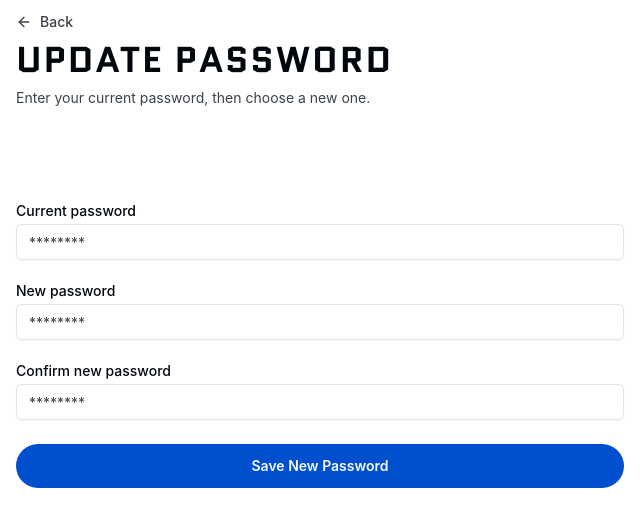
Scenario: UpdatePasswordPage › submits the password update form successfully
The width and height of the screenshot is (641, 505).
Type "currentpass123" into the password field labelled "Current password" at (320,242), box 16,224 -> 624,260
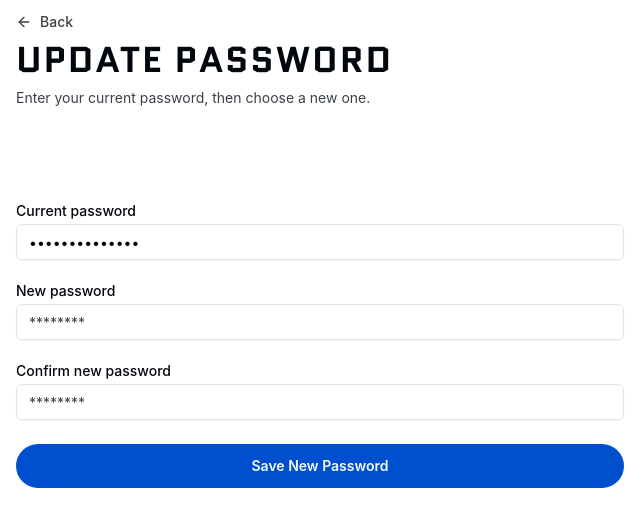
Type "newpass123" into the password field labelled "New password" at (320,322), box 16,304 -> 624,340
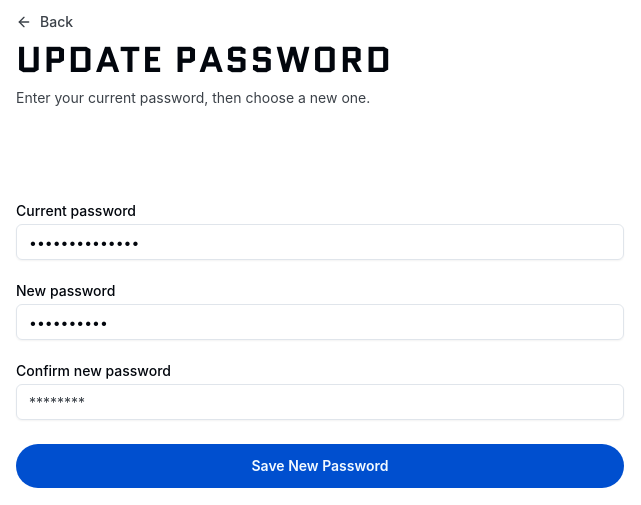
Type "newpass123" into the password field labelled "Confirm new password" at (320,402), box 16,384 -> 624,420
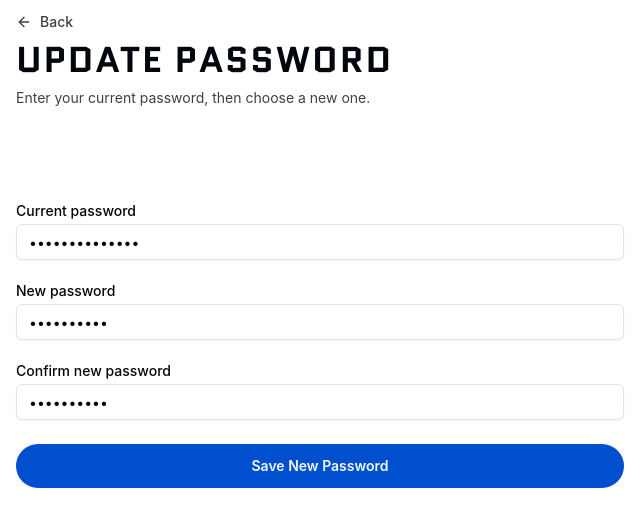
Submit the form named "Update password form", box 16,204 -> 624,488
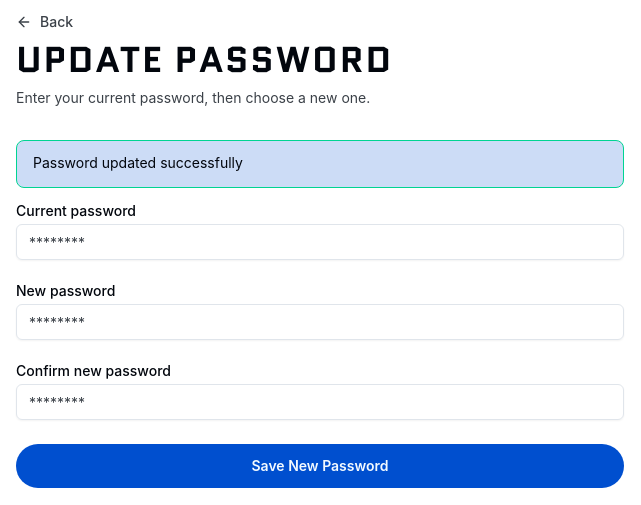
Now the text "Password updated successfully" is shown, box 33,154 -> 243,171
